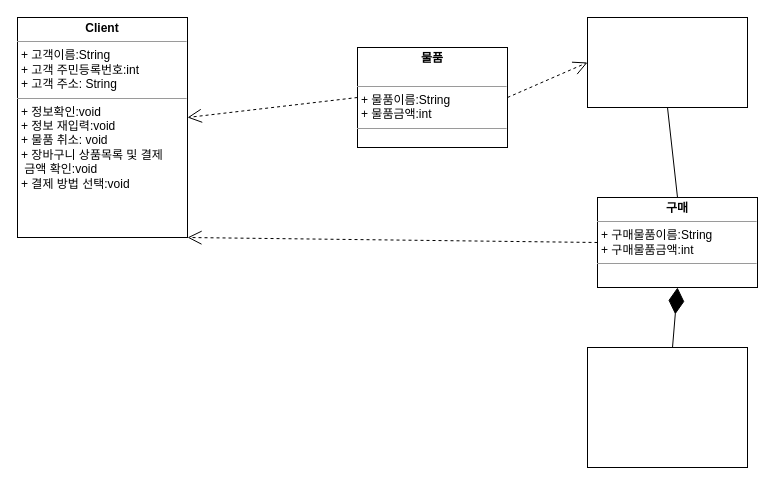
This 775x485 diagram has some shape labels left out. Here are the shapes that lost their labels. From the top down, the box of each, then its label:
(586, 16, 748, 108): 상품목록 + 상품이름:String + 상품금액:int + 관심물품등록:void
(586, 346, 748, 468): 결제 +카드 번호:int +비밀 번호:int + 카드결제 시스템 사용가능 여부:void
